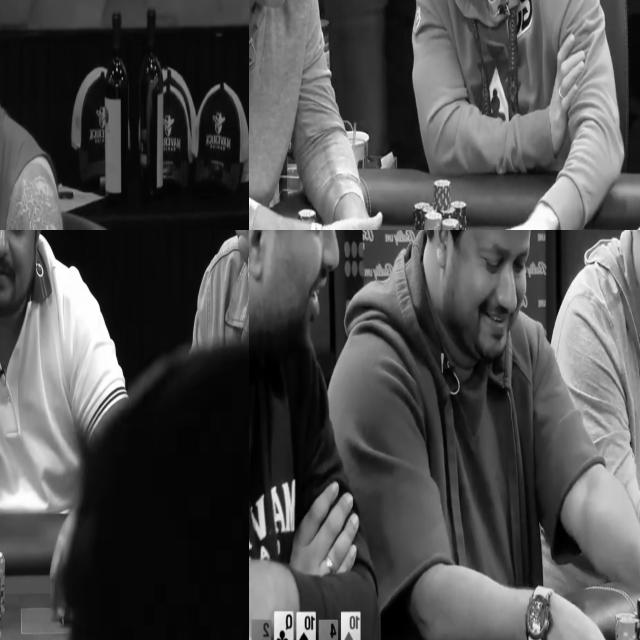10D: (340, 612, 360, 640)
10S: (296, 613, 315, 640)
2H: (251, 620, 270, 640)
4S: (318, 620, 337, 640)
QC: (274, 611, 292, 640)
